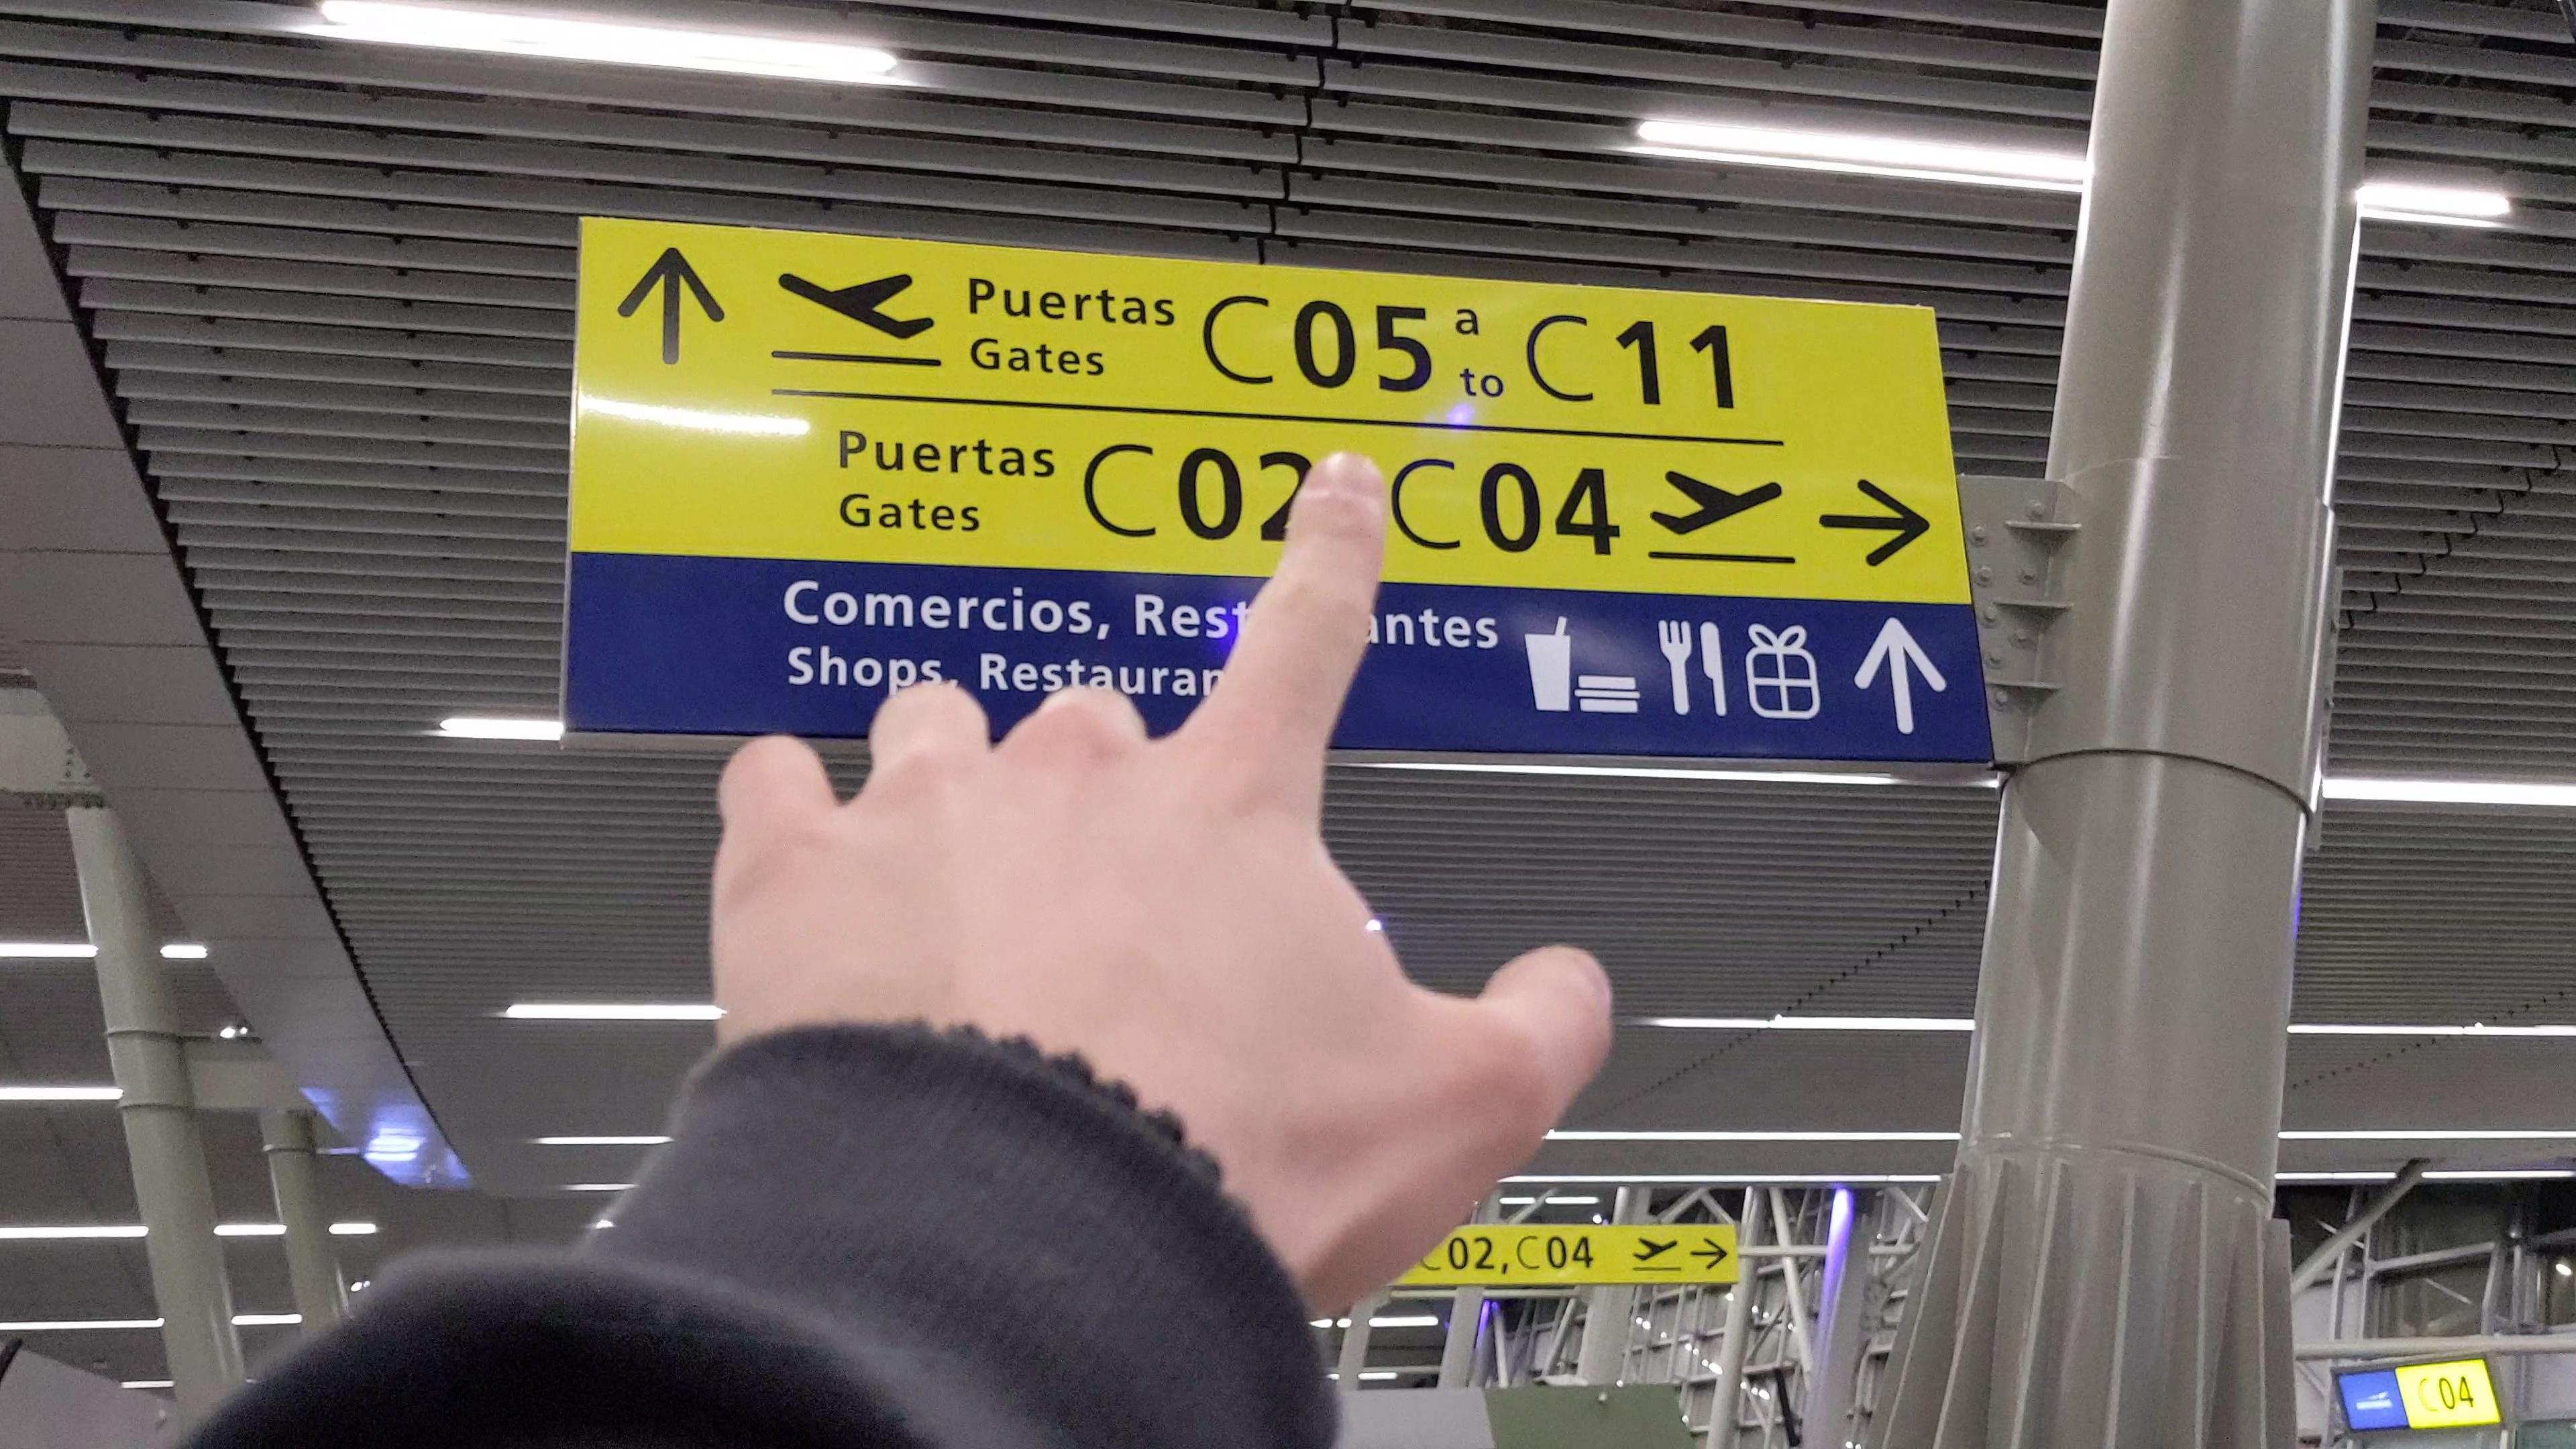airplane symbol: (770, 266, 937, 342), (1647, 461, 1784, 541), (1631, 1233, 1681, 1263)
restaurants: (1657, 612, 1737, 728)
thin right arrow: (1810, 472, 1935, 577), (1688, 1233, 1730, 1273)
thin up arrow: (609, 239, 736, 374), (1845, 610, 1950, 747)
